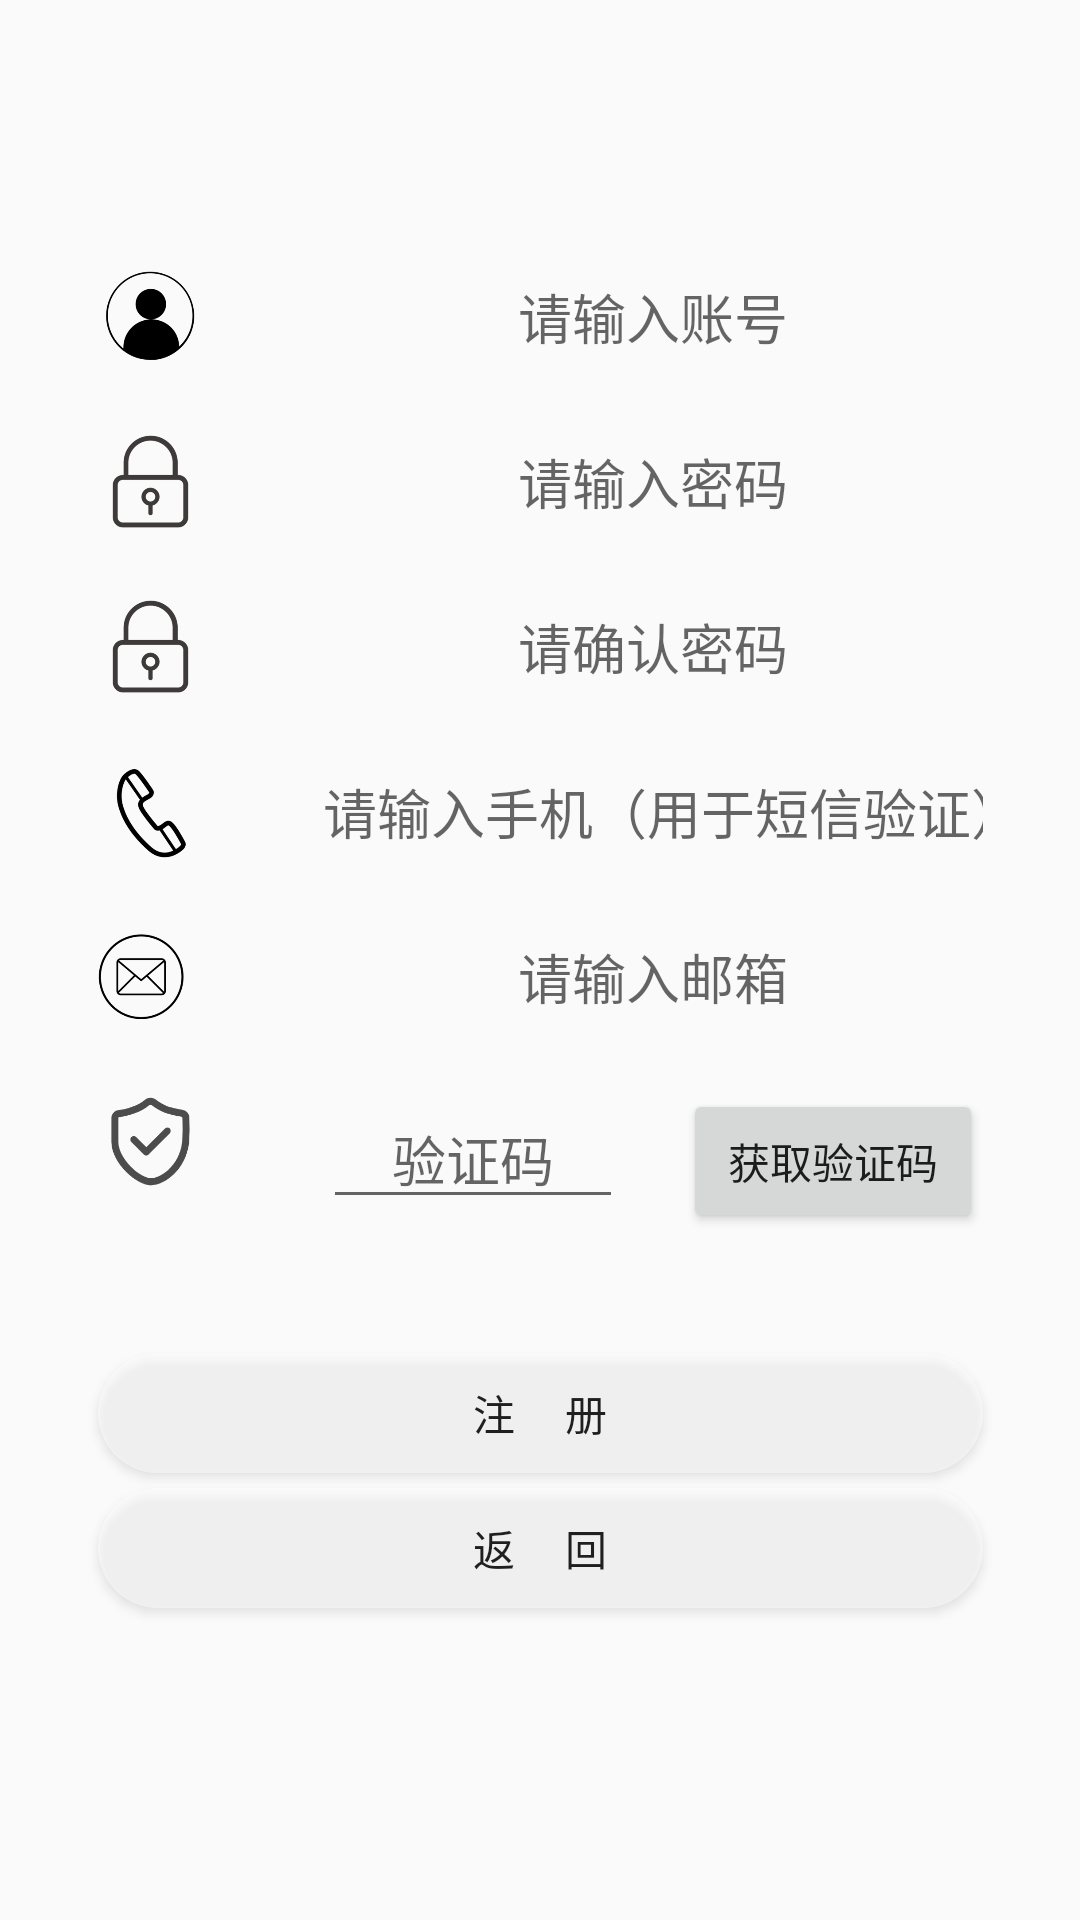

Icons on this 1080*1920 Android screen, each with the point to tap as [x,y]:
account: [150,315]
code: [150,1141]
emeil: [141,976]
password: [150,481], [150,646]
tel: [151,813]
